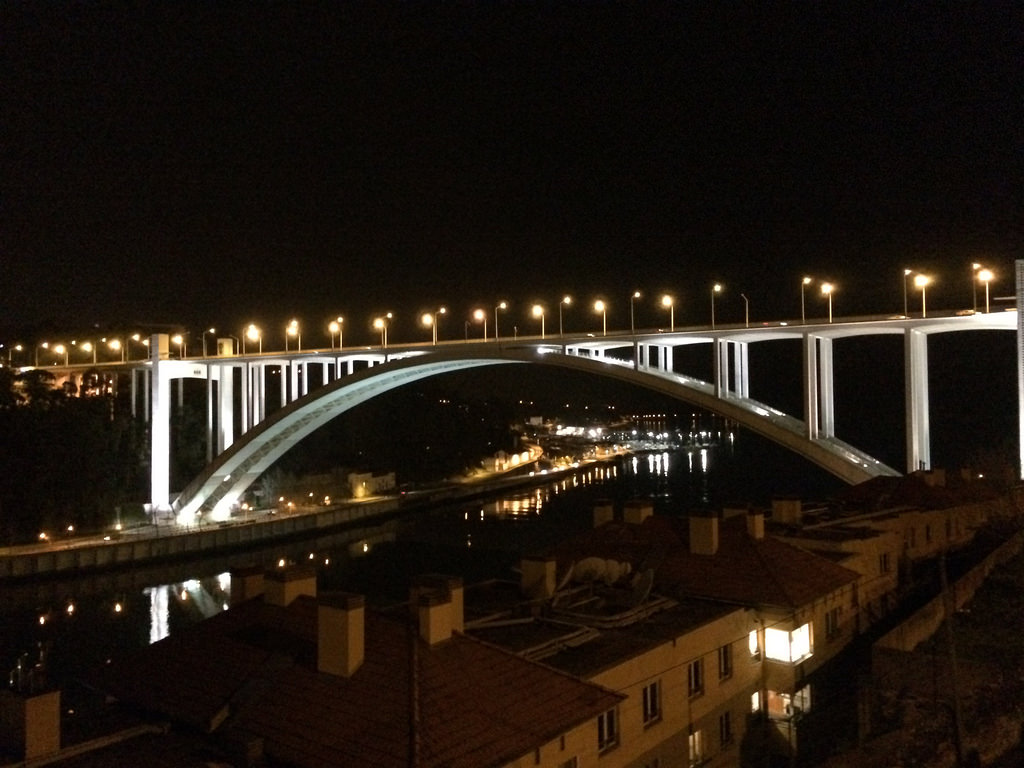arrabida: (14, 258, 1023, 531)
